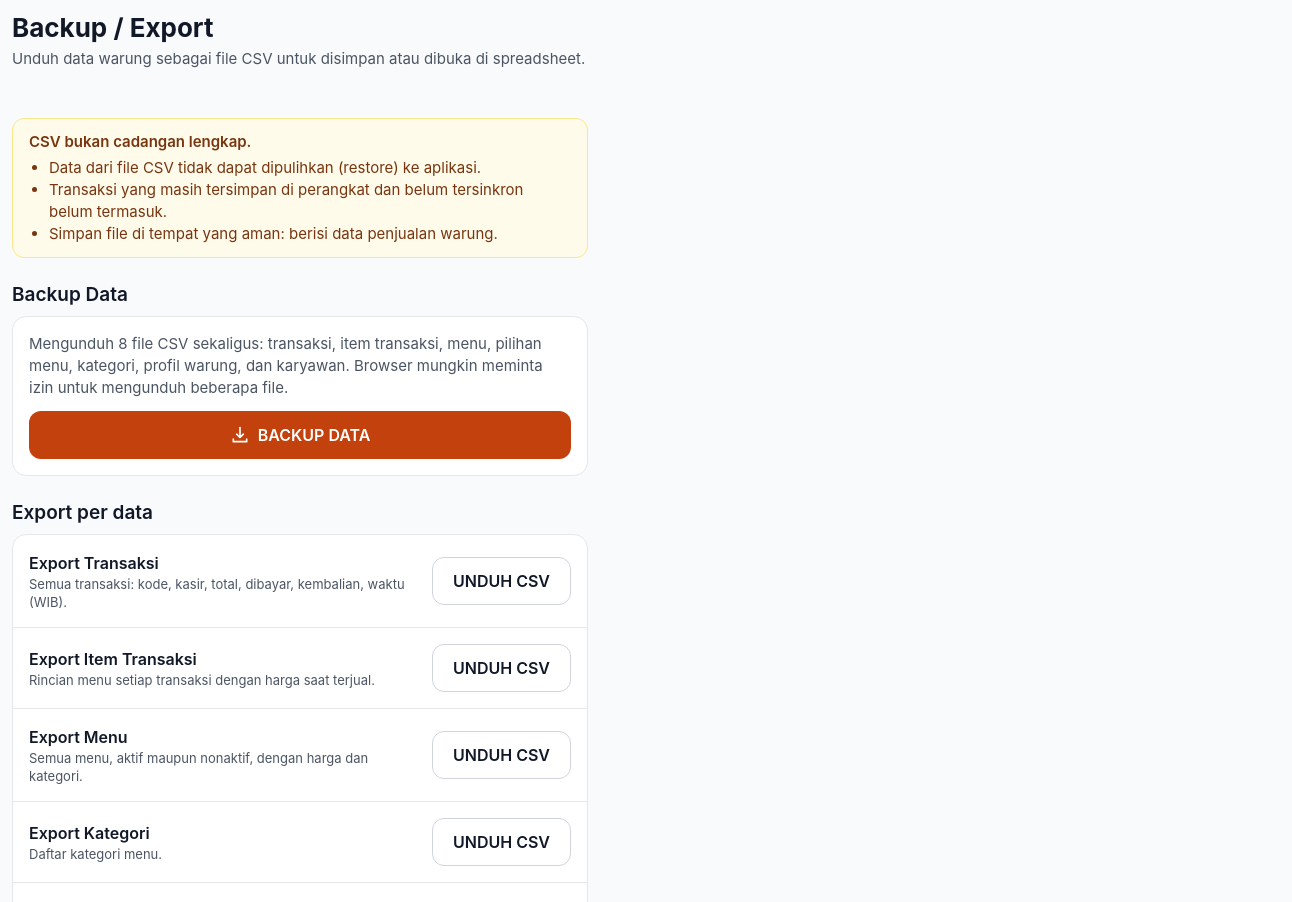
Test: backup page › downloads one CSV with the BOM-free text and a dated name
The image size is (1292, 902).
Click the button with aria-label "UNDUH CSV Export Menu".
click(502, 755)  # box [432,731,571,779]
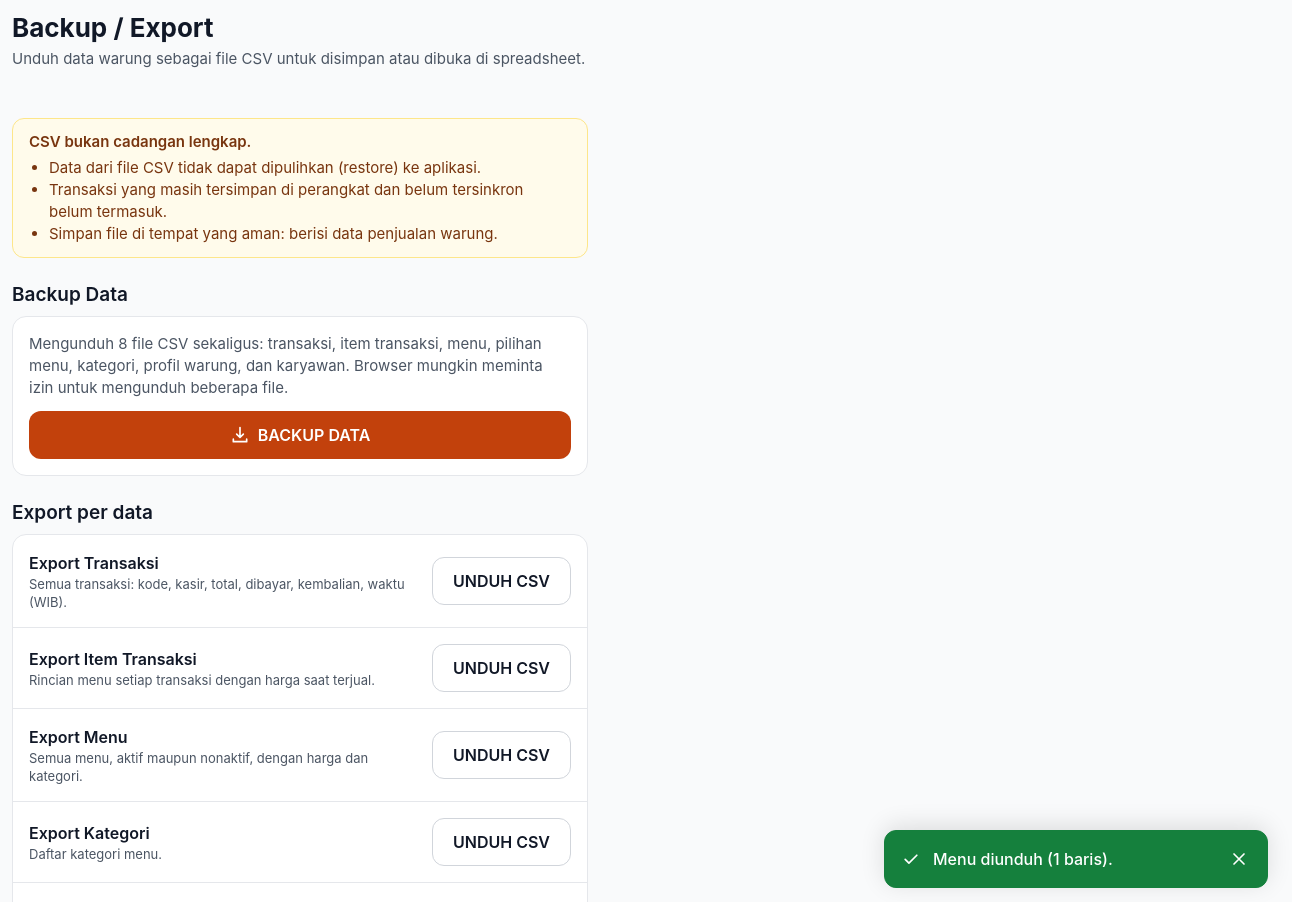
expect the text "Menu diunduh (1 baris)." is shown: met, box [933,849,1113,869]
